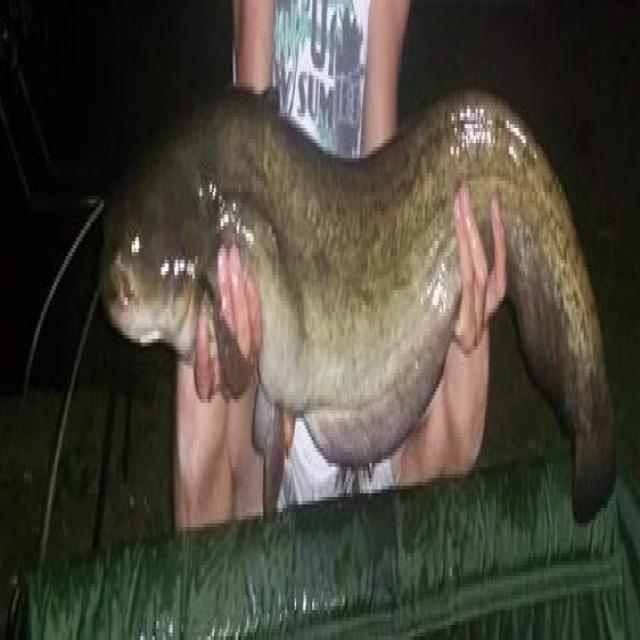Catfish: (81, 48, 619, 544)
